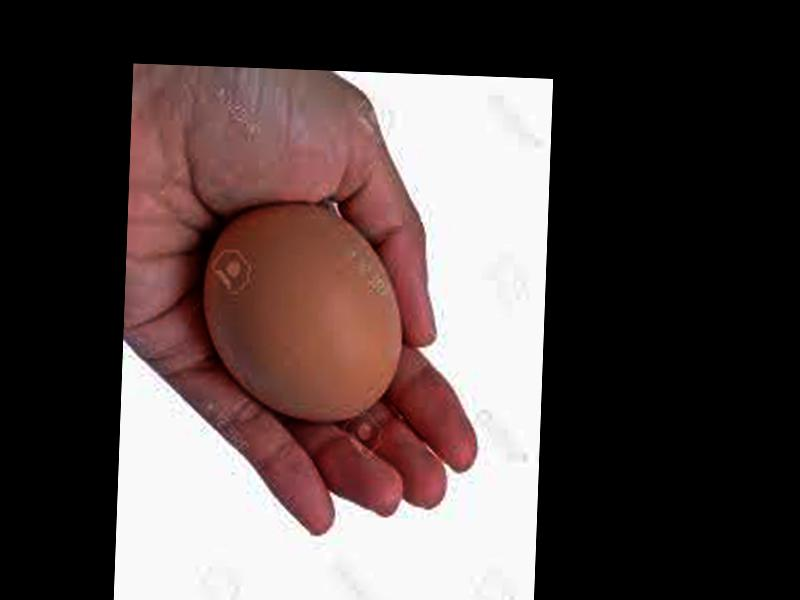Eggs: (200, 198, 406, 425)
